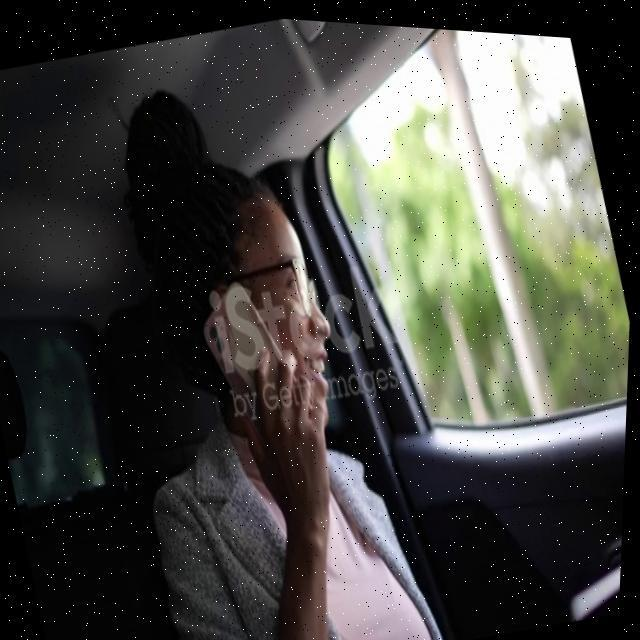PhoneCall: (190, 262, 320, 458)
